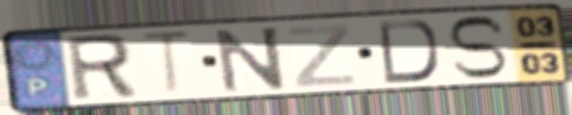D: (376, 18, 443, 86)
N: (212, 24, 290, 95)
R: (61, 31, 141, 104)
S: (444, 14, 510, 81)
T: (138, 29, 197, 99)
Z: (285, 22, 357, 89)
